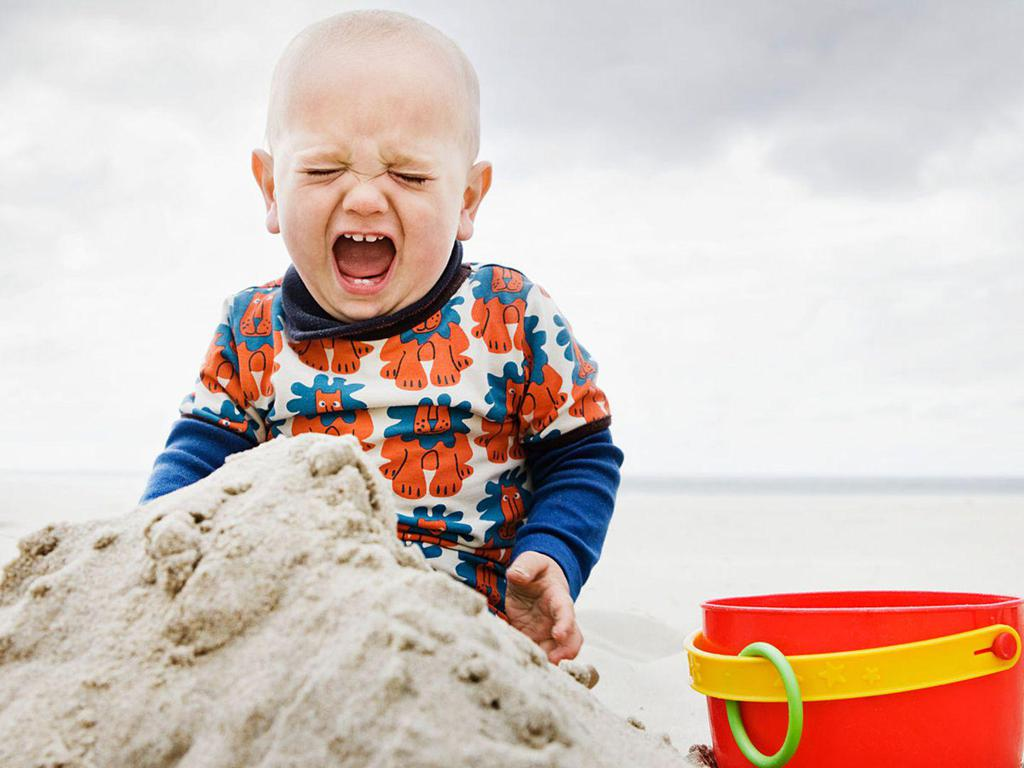child: (158, 7, 634, 718)
